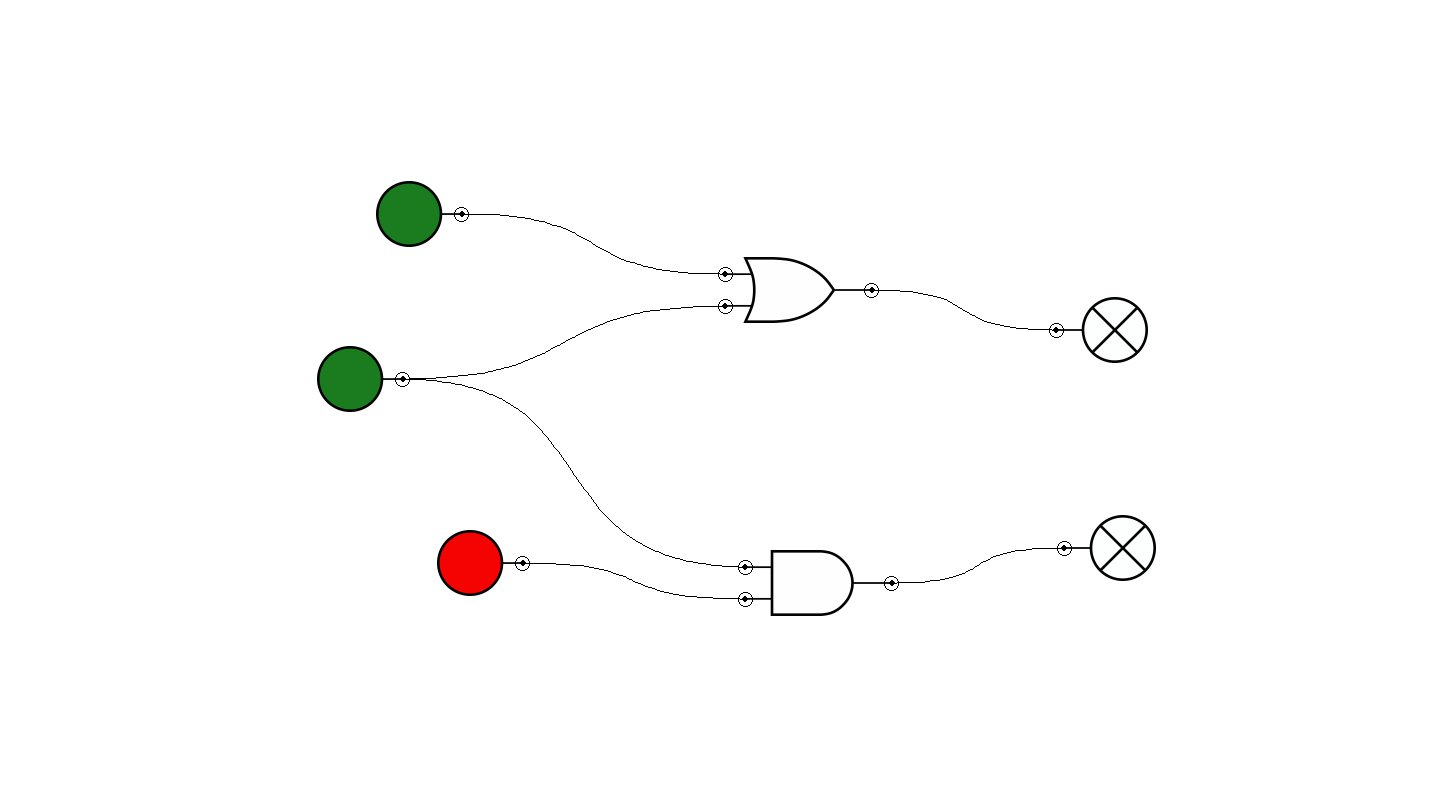and: (738, 550, 899, 616)
bulb: (1049, 297, 1148, 363), (1057, 515, 1156, 581)
or: (718, 257, 879, 323)
switch_False: (437, 530, 530, 596)
switch_True: (376, 181, 469, 247), (317, 346, 410, 412)
